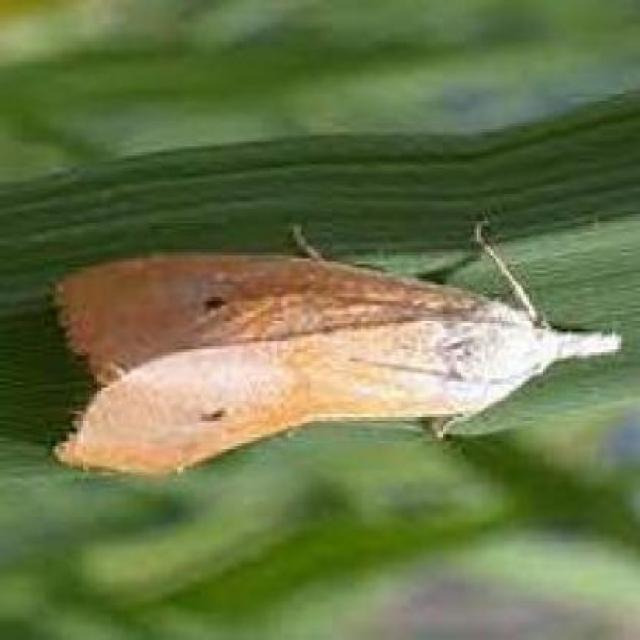stem-borer: (51, 218, 623, 472)
